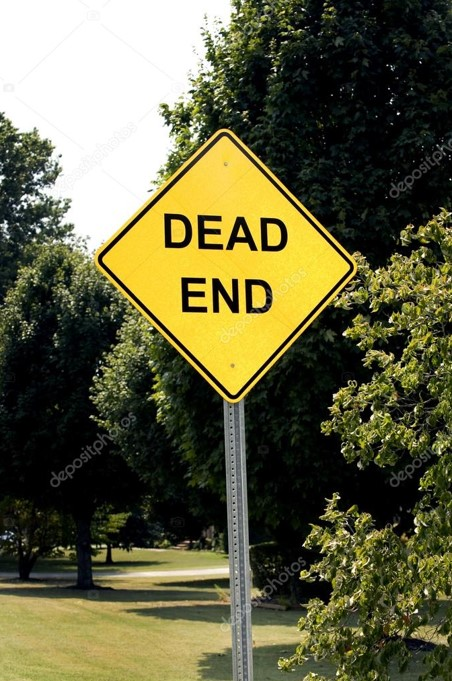Deadend: (95, 127, 358, 406)
